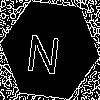N: (25, 25, 64, 75)
